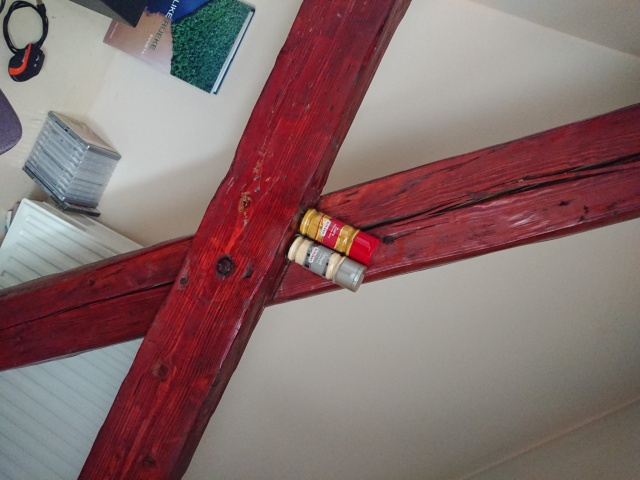Kotanyi Curry Spices Mix 70g: (296, 207, 383, 268)
Kotanyi Garlic Granules 70g: (282, 231, 369, 294)
